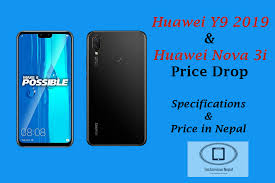huawei: (83, 27, 148, 149), (13, 29, 77, 146)
